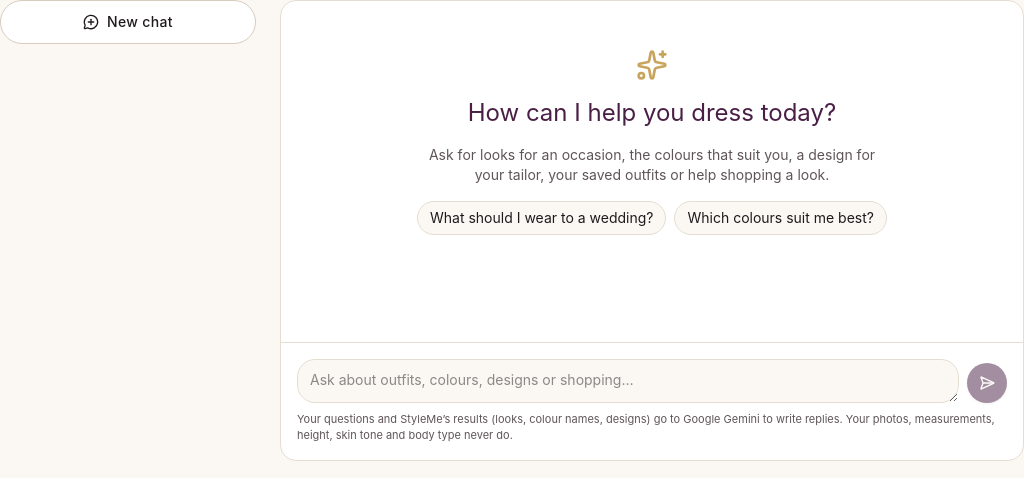
Test: AssistantChat › keeps the question and shows the error when sending fails
In the text box named "Your question": (628, 381) [297, 359, 959, 403], type "Diwali looks"
Then press Enter
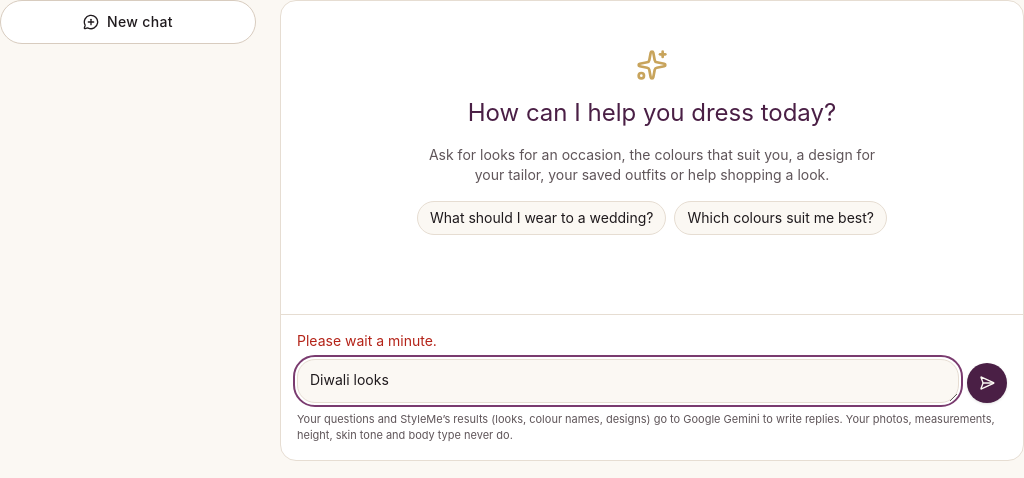
Check: the message reads "Please wait a minute.", box [297, 332, 437, 349]
